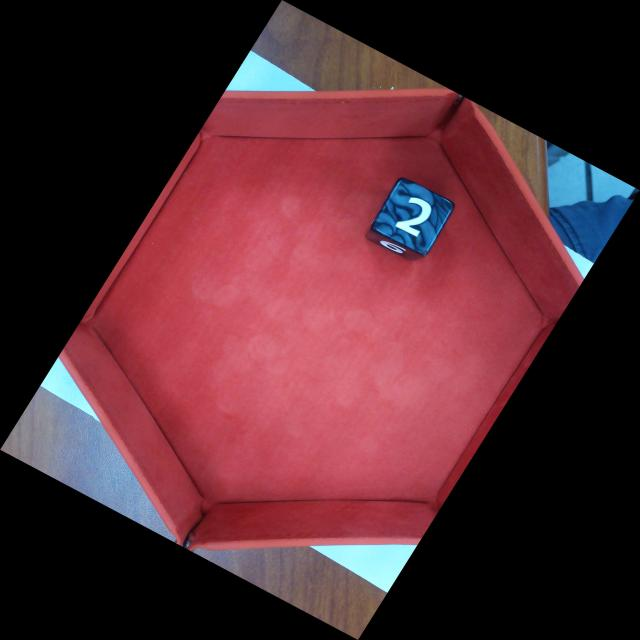dice: (368, 182, 458, 253)
